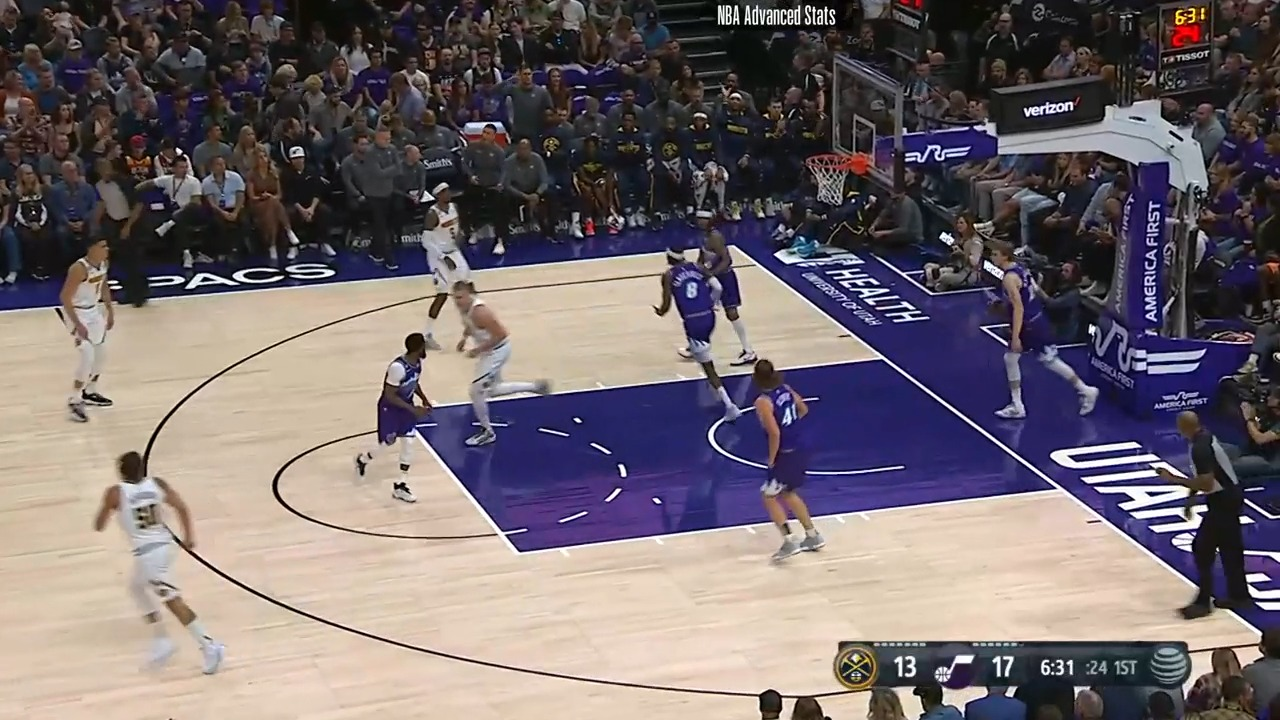net: (806, 146, 871, 203)
player: (93, 447, 229, 680), (985, 242, 1094, 429), (443, 279, 547, 454), (738, 358, 820, 564), (656, 241, 738, 424), (361, 330, 440, 507), (49, 237, 113, 426), (414, 182, 475, 346), (691, 210, 755, 365)
referee: (1167, 404, 1249, 624), (95, 161, 158, 314)
